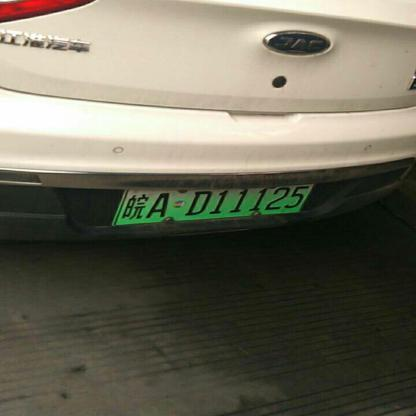lp: (111, 182, 314, 224)
